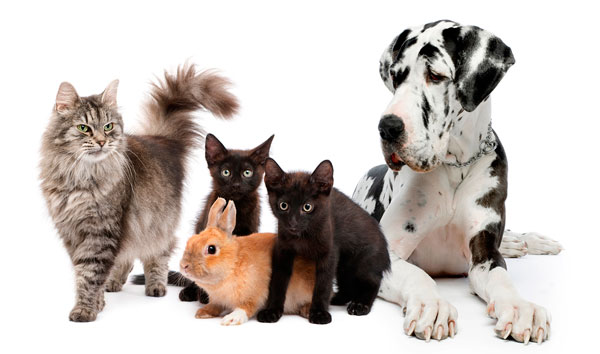cat: (28, 76, 172, 310), (259, 154, 380, 312), (198, 132, 265, 223)
dog: (361, 20, 556, 334)
rabbit: (182, 219, 271, 320)
